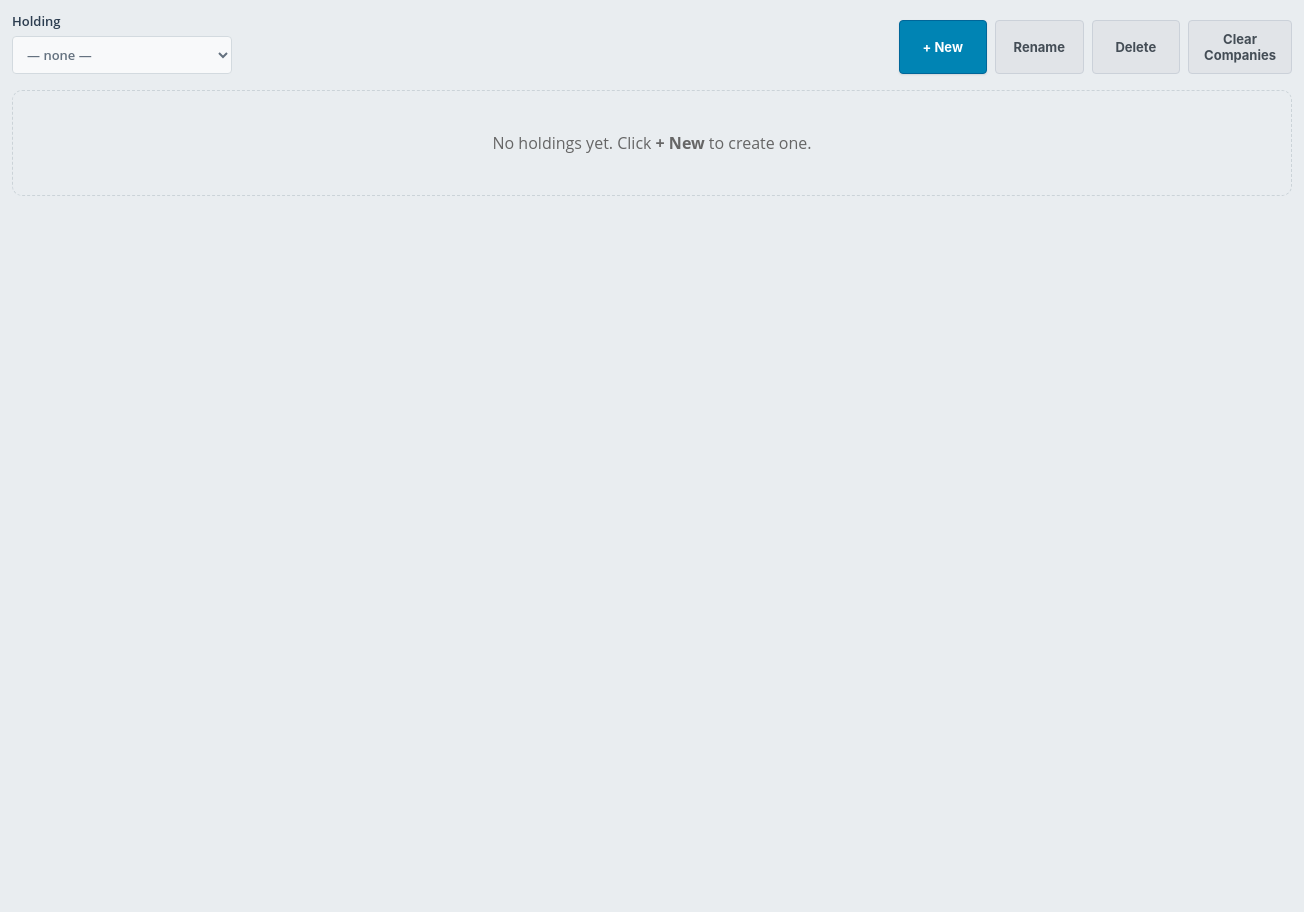
Test: HoldingsView › creates a holding via + New (prompt) and shows content
The width and height of the screenshot is (1304, 912).
Click the button "+ New" at (943, 46), box x1=898 y1=20 x2=987 y2=74
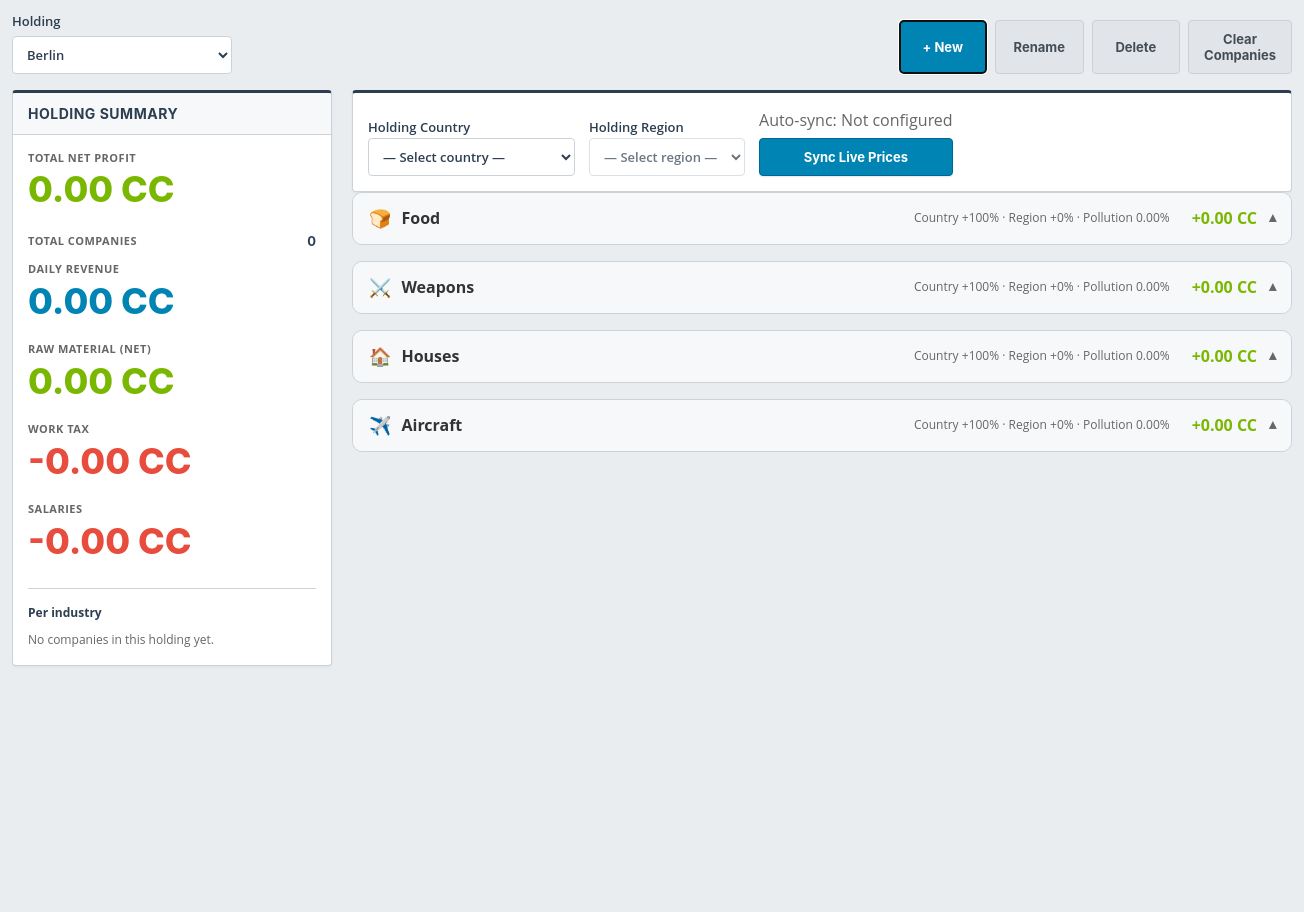
Result: the element with test id "hld-content" is shown
Result: the dropdown with test id "hld-picker" shows "Berlin" at x1=12 y1=36 x2=232 y2=74
